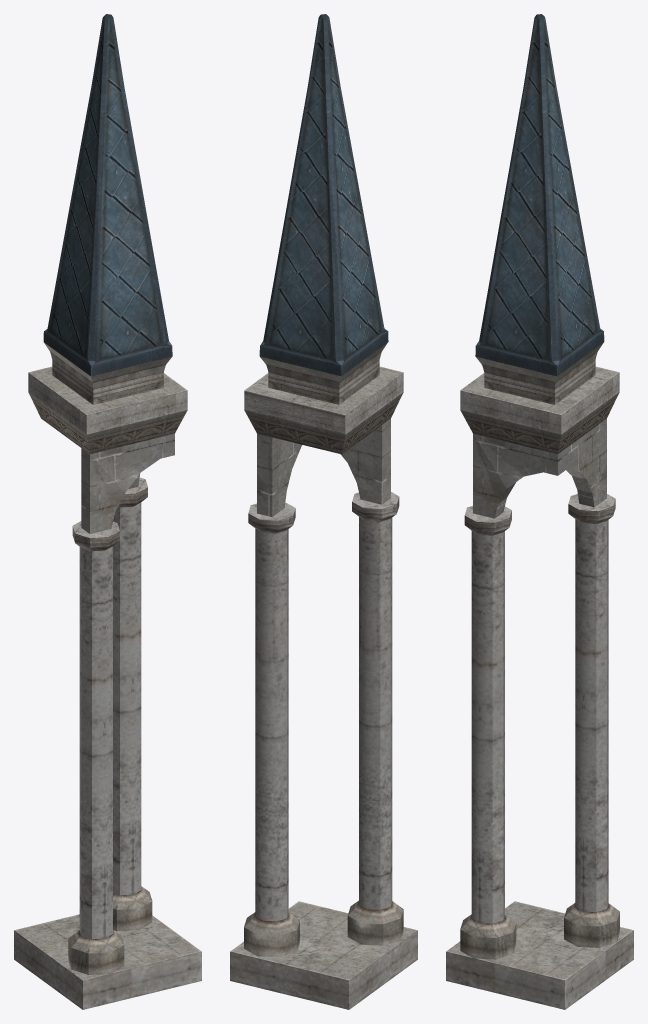
File: bg_lut_lucastle_churchtower03a_sm_ksh.FBX
3 views of the same model, side by side, from view 1: azimuth 30°, elevation 25°; view 2: azimuth 150°, elevation 25°; view 3: azimuth 330°, elevation 25° (orthographic).
Visible parts, largest first — view 1: bg_lut_lucastle_churchtower03a_sm_ksh; view 2: bg_lut_lucastle_churchtower03a_sm_ksh; view 3: bg_lut_lucastle_churchtower03a_sm_ksh.
Part boxes in pixels (<box>): bg_lut_lucastle_churchtower03a_sm_ksh: <box>14,14,201,1009</box>; bg_lut_lucastle_churchtower03a_sm_ksh: <box>230,14,417,1009</box>; bg_lut_lucastle_churchtower03a_sm_ksh: <box>446,14,633,1009</box>.
Bounding box in the file's own units: 49.71 × 381 × 49.82.
